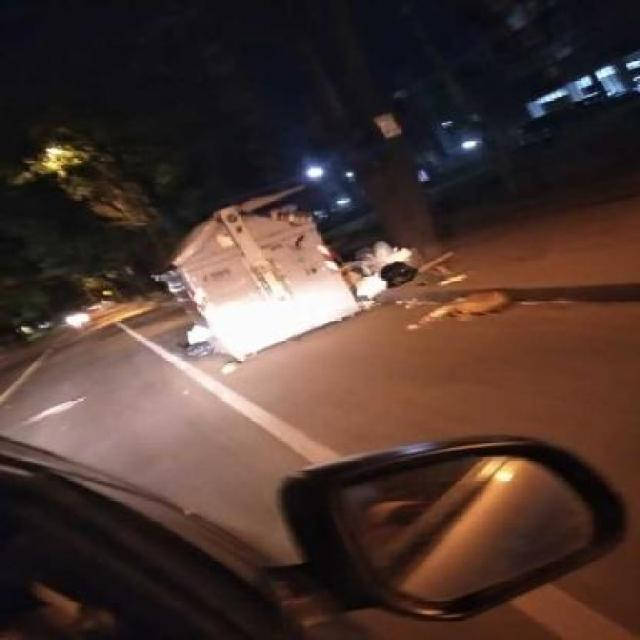garbage: (314, 228, 516, 322), (177, 322, 258, 373), (246, 199, 334, 228)
